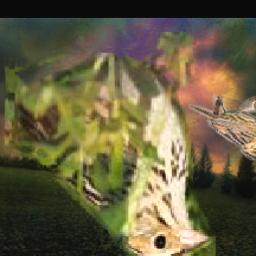Sparrow: (5, 32, 216, 256), (187, 95, 256, 160)
